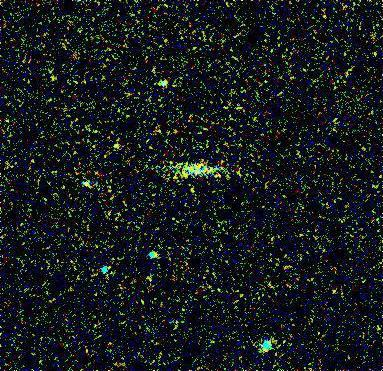star: (73, 170, 103, 200)
